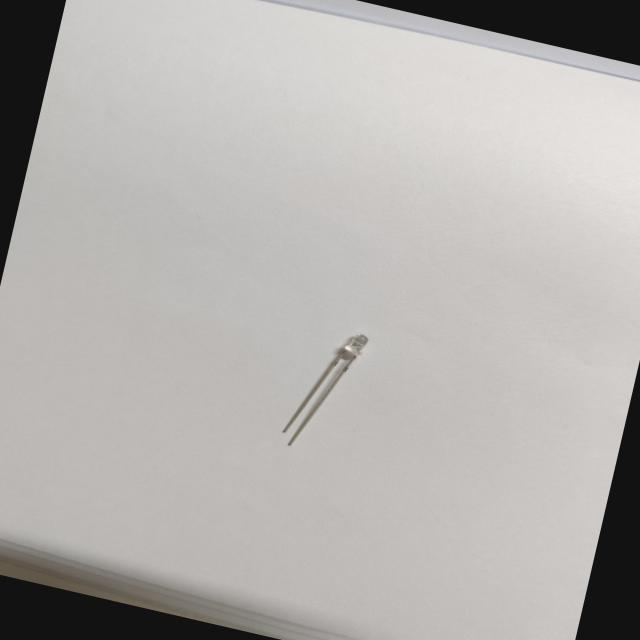led: (265, 312, 377, 463)
